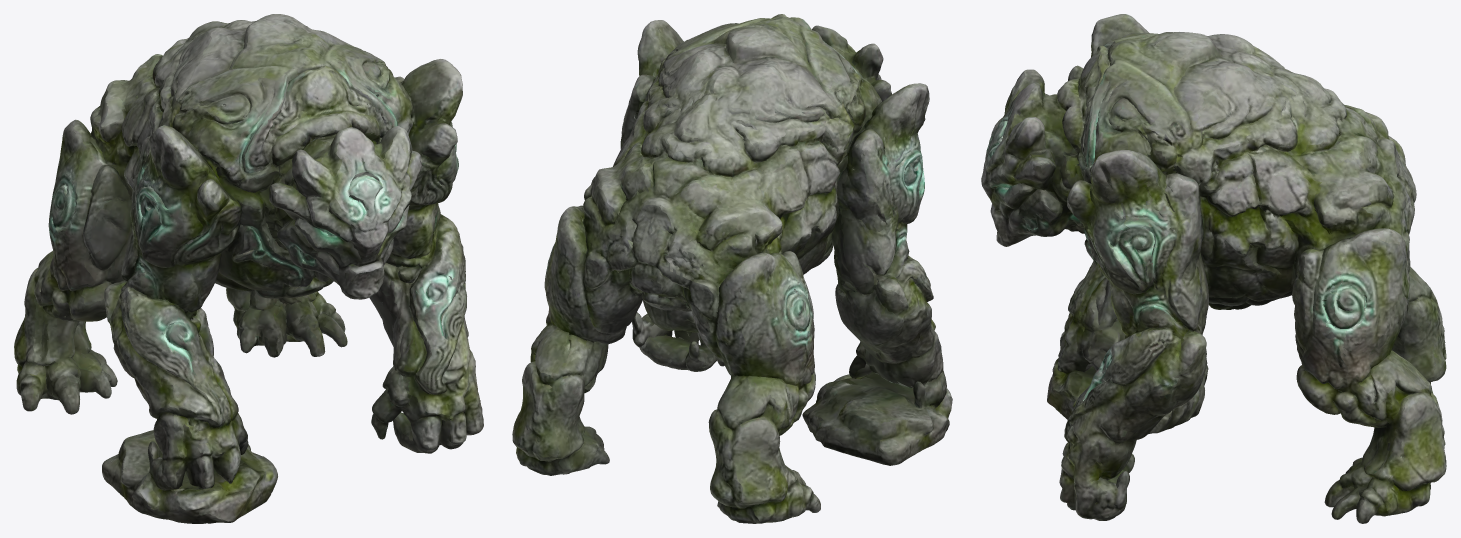
The model's file is guardian.glb.
3 views of the same model, side by side, from view 1: azimuth 30°, elevation 25°; view 2: azimuth 150°, elevation 25°; view 3: azimuth 270°, elevation 25° (orthographic). The views are drawn at different scales.
Parts seen in each view (by area): view 1: geometry_0; view 2: geometry_0; view 3: geometry_0.
Boxes of the visible parts, <box> form: geometry_0: <box>14,14,483,523</box>; geometry_0: <box>512,14,952,523</box>; geometry_0: <box>981,14,1446,523</box>.
Size of the model in its own units: 0.1876 by 0.22 by 0.2221.
Materials: 1 (1 with a texture image).
